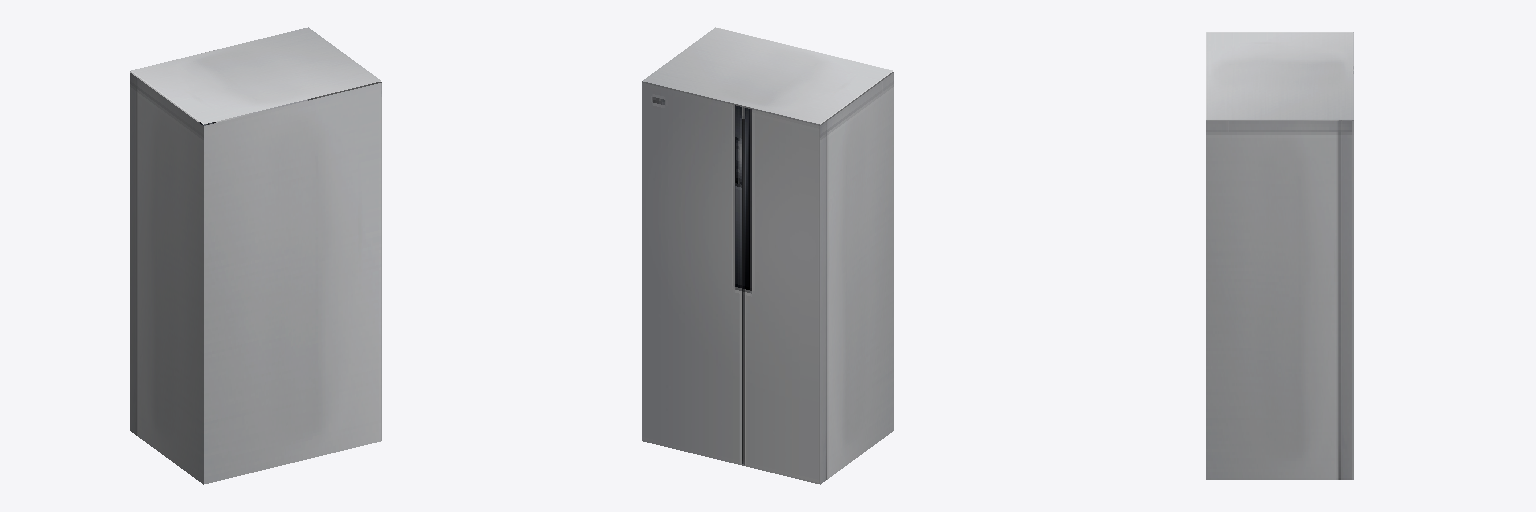
3 views of the same model, side by side, from view 1: azimuth 30°, elevation 25°; view 2: azimuth 150°, elevation 25°; view 3: azimuth 270°, elevation 25° (orthographic).
Visible parts, largest first — view 1: fridge; view 2: fridge; view 3: fridge.
Part boxes in pixels (x1,y1,x2,y2): fridge: (130,27,381,484); fridge: (642,27,893,484); fridge: (1206,32,1353,479).
Bounding box in the file's own units: 84 × 162 × 60.
1 materials, 1 textured.